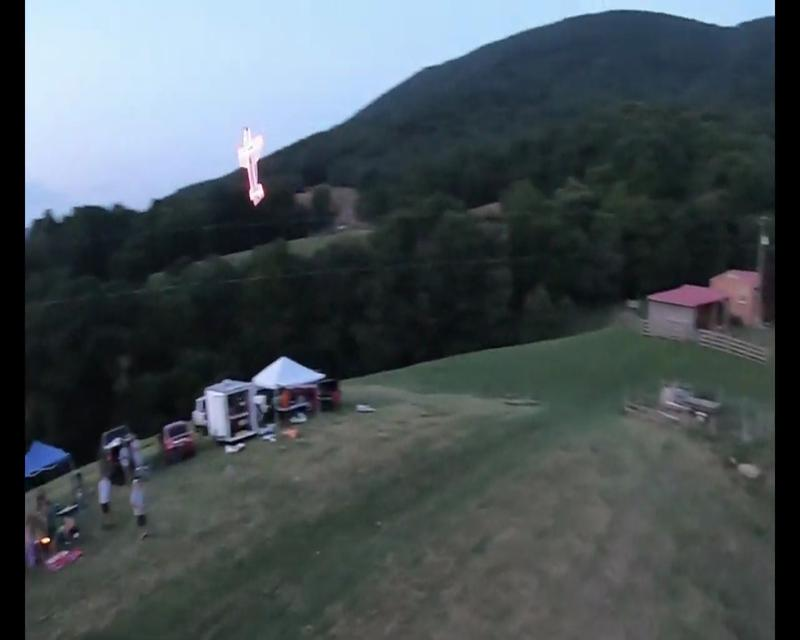UAV: (235, 125, 266, 207)
